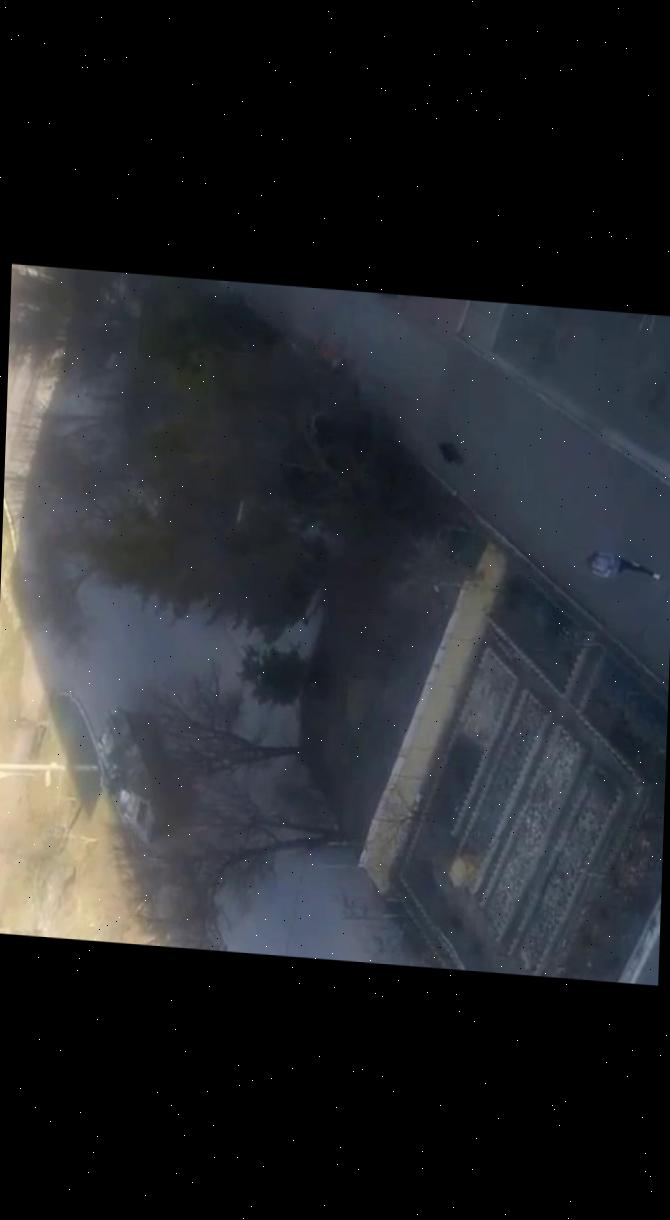person: (584, 549, 662, 583)
tank: (90, 705, 178, 846)
